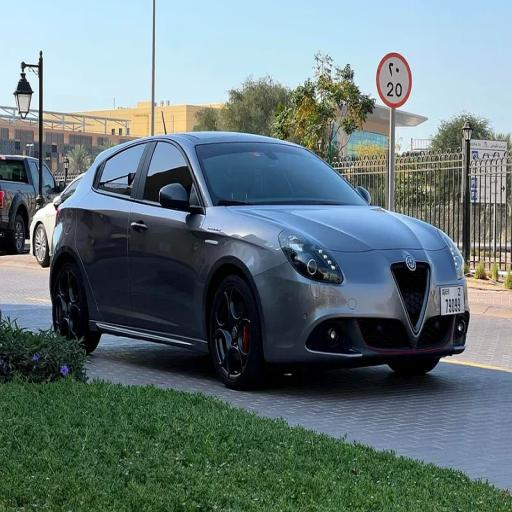license-plates: (440, 285, 465, 316)
